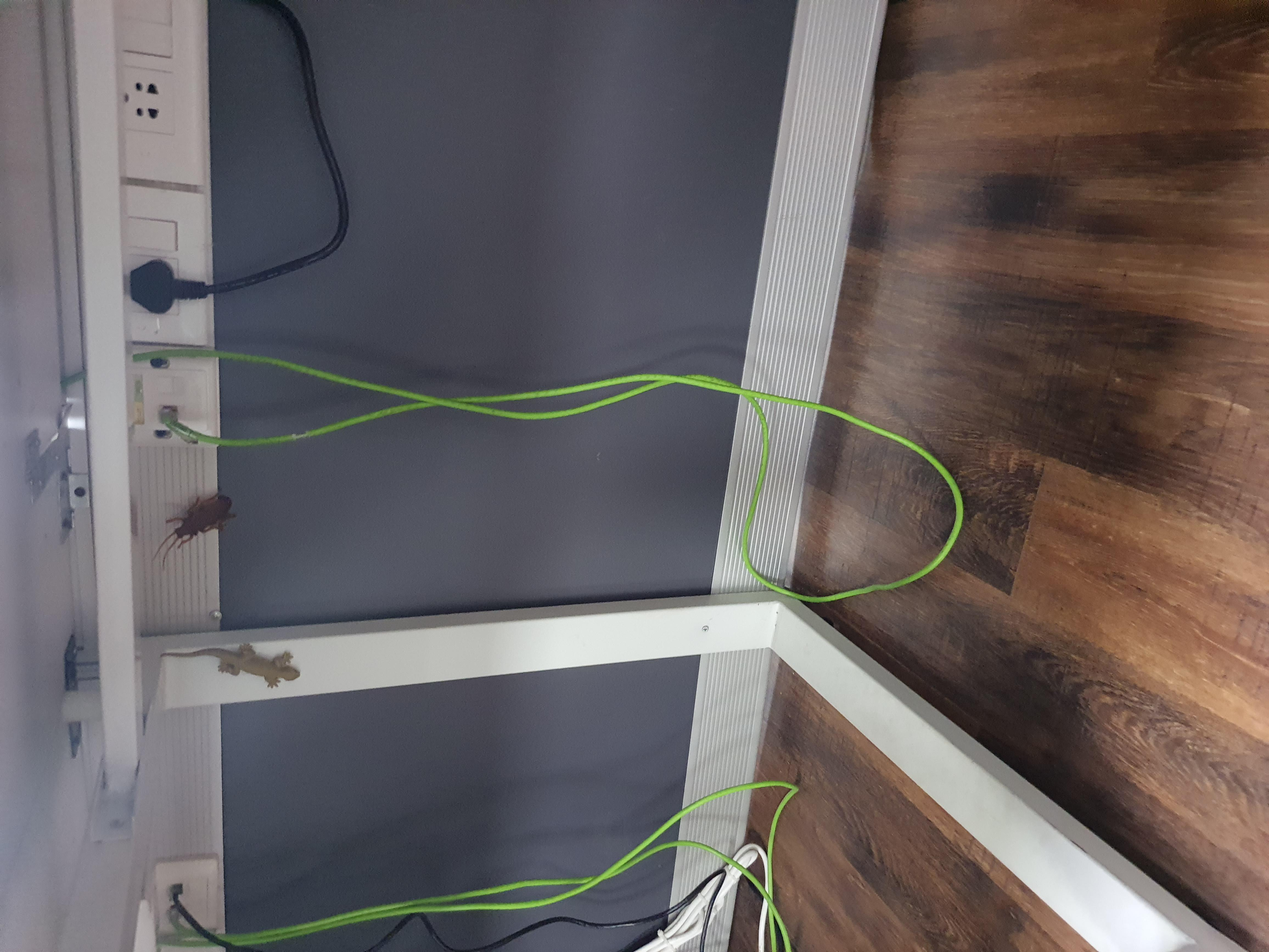cockroach: (502, 112, 630, 181)
lizard: (341, 116, 425, 231)
